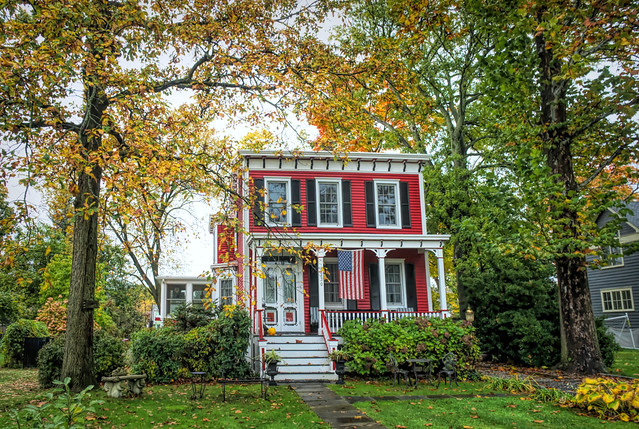low: (148, 148, 453, 384)
